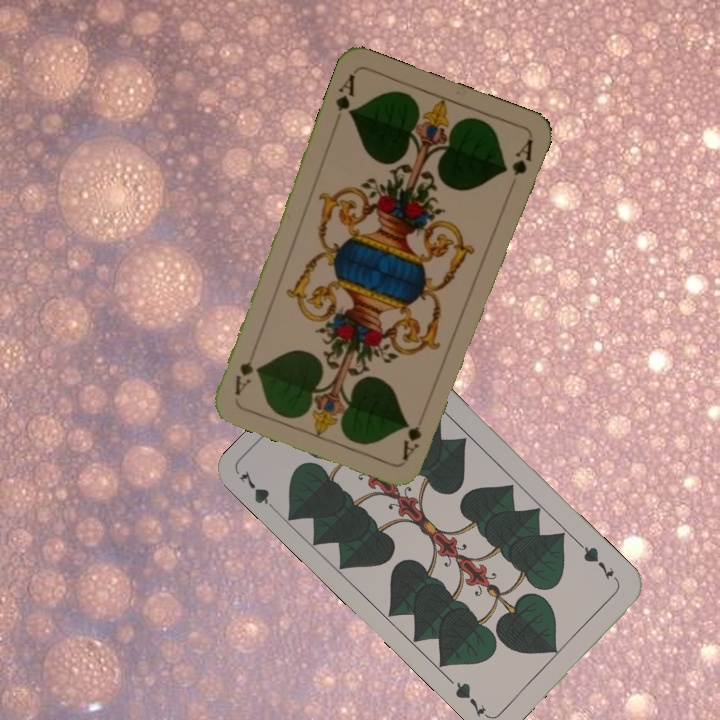G7: (235, 466, 282, 518), (575, 539, 617, 583)
GA: (398, 406, 429, 463), (331, 70, 358, 118)
